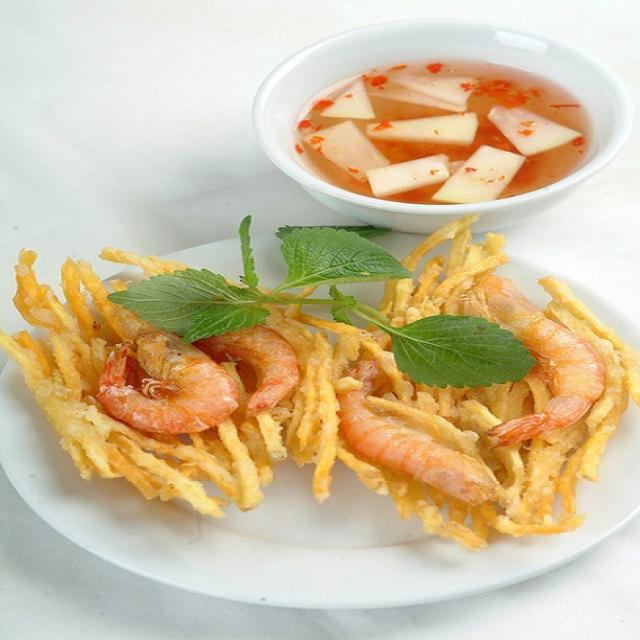炸货点心: (11, 36, 621, 588)
熟制海鲜: (11, 36, 621, 588)
